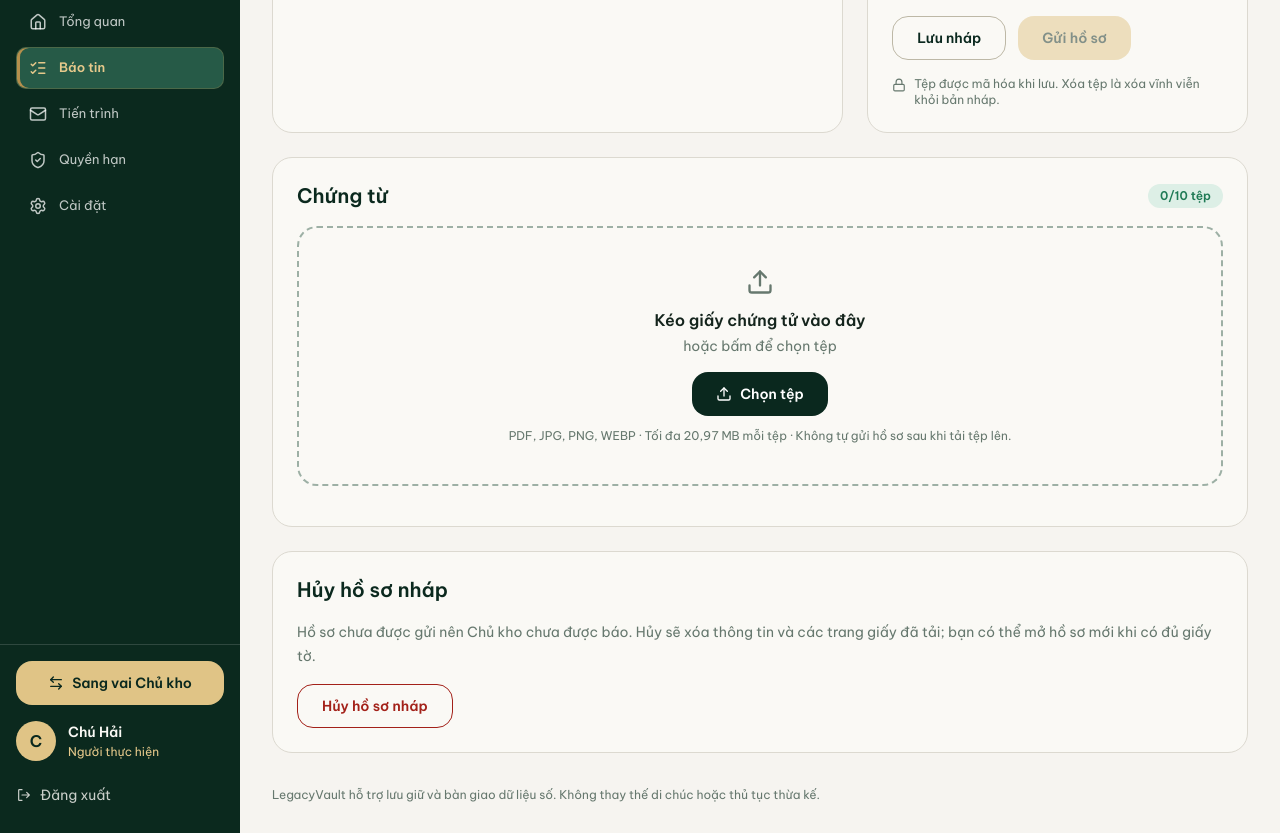
Executor report › cancels a draft only after confirming, then goes back to the overview
(page scrolled)
Click the button "Hủy hồ sơ nháp". click: (375, 706)
box: [297,684,453,728]
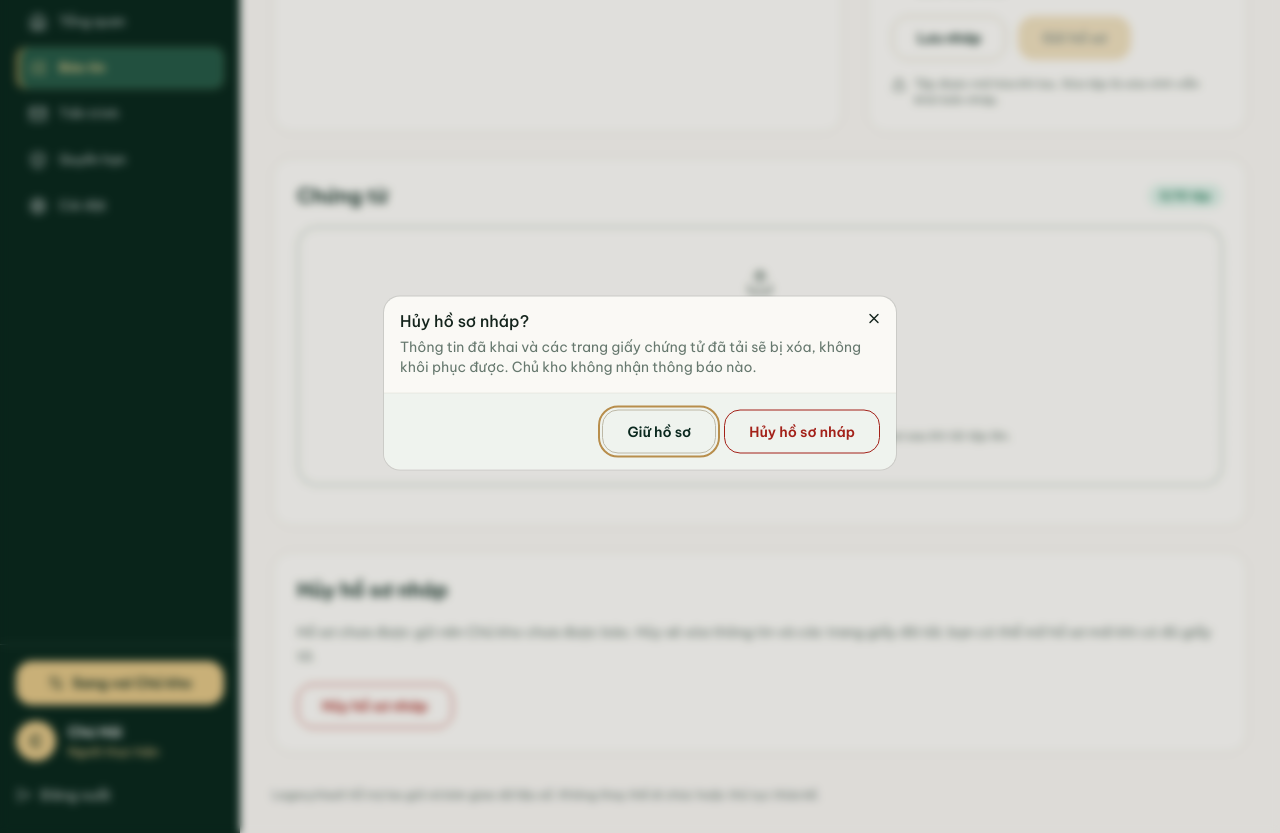
Result: the dialog shows "không khôi phục được" at [400,338,861,376]
Click the button "Hủy hồ sơ nháp". click: (802, 432)
box: [724,410,880,454]
(page scrolled)
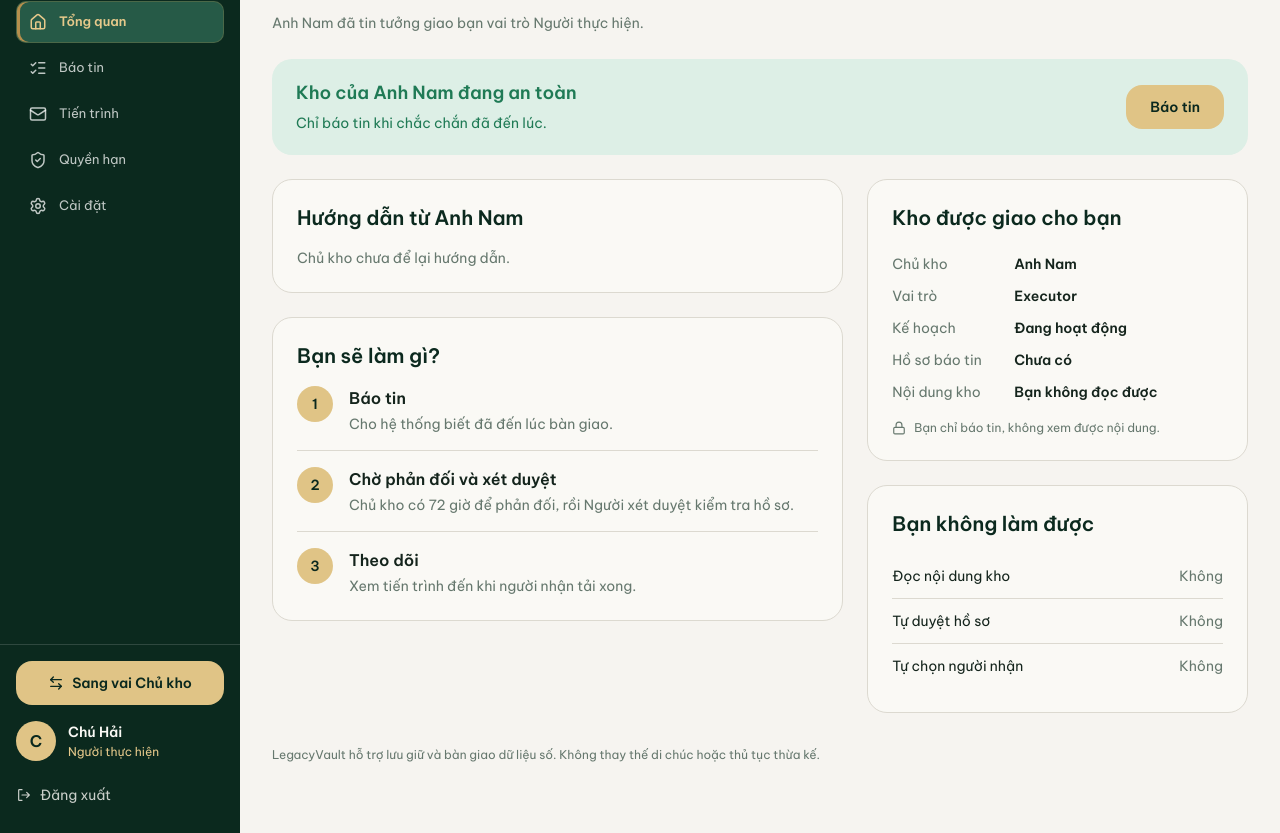
Result: the text "Kho của Anh Nam đang an toàn" is shown at [296,79,577,107]
Result: the dialog is gone
